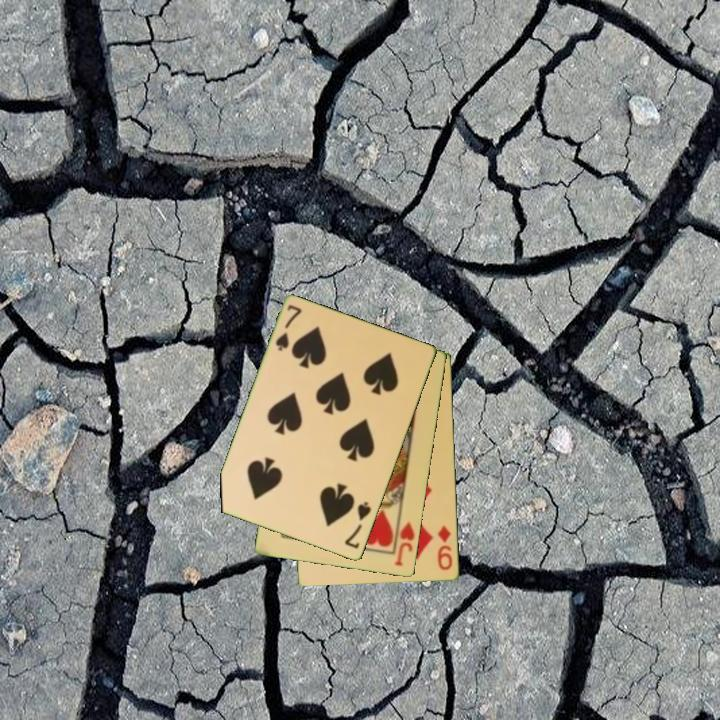7s: (341, 498, 374, 552), (272, 301, 305, 354)
9d: (434, 522, 456, 573)
Jh: (391, 518, 418, 569)
